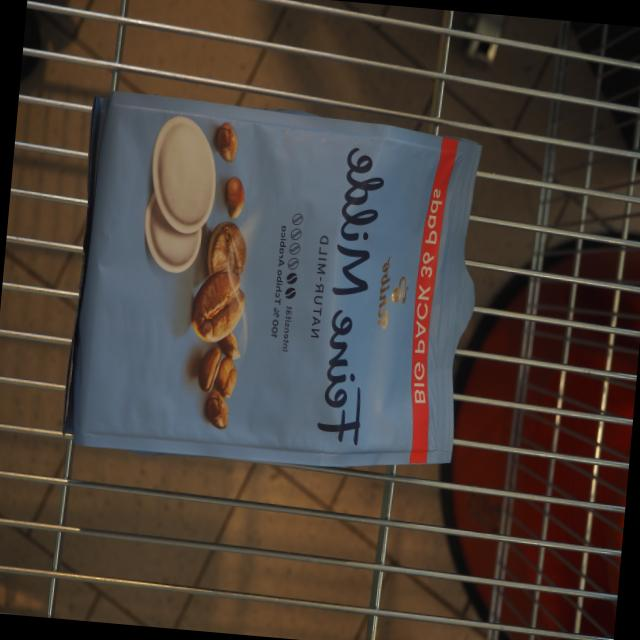FM 36 Pads: (55, 76, 493, 500)
